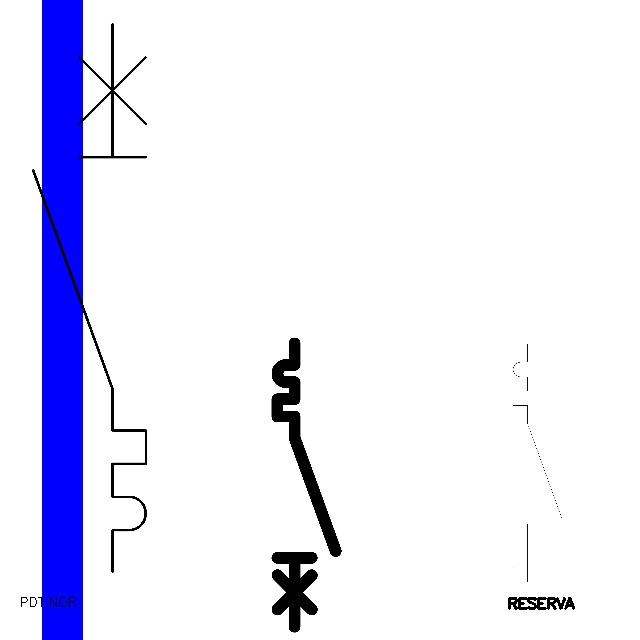interruptor_termomagnetico: (19, 10, 160, 586), (270, 336, 343, 634), (507, 338, 568, 588)
